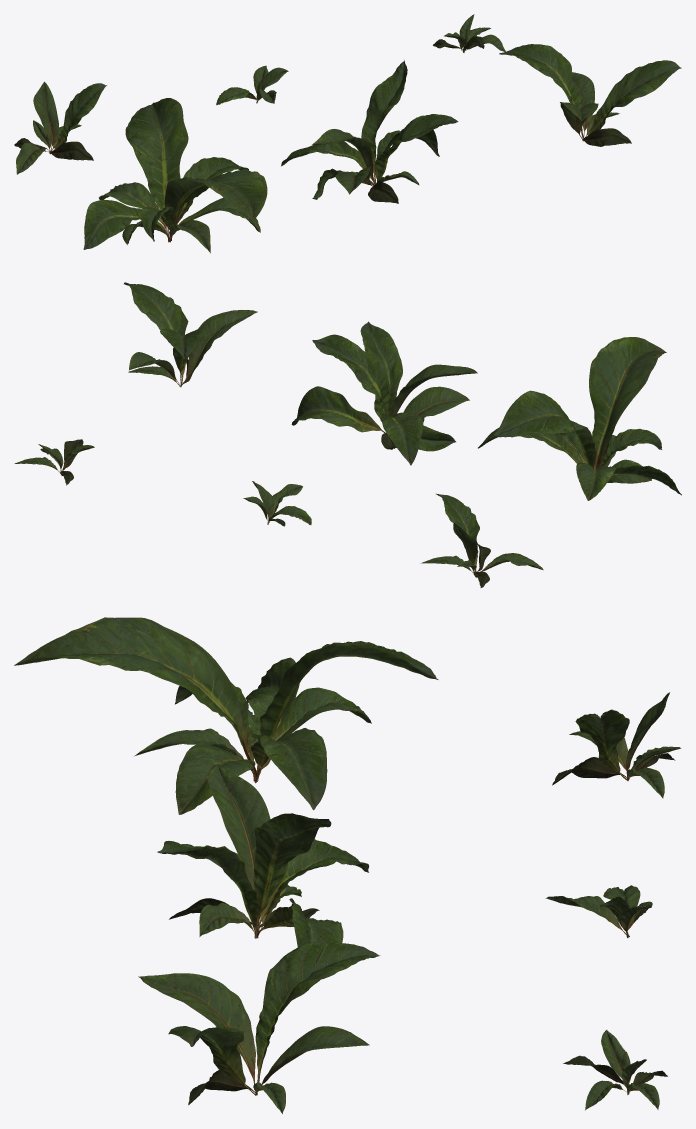
The model's file is anthurium_botany_01_1k.gltf.
3 renders of one model, top to bottom at view 1: azimuth 30°, elevation 25°; view 2: azimuth 150°, elevation 25°; view 3: azimuth 270°, elevation 25°, orthographic. The views are drawn at different scales.
Parts seen in each view (by area): view 1: anthurium_botany_01_a, anthurium_botany_01_b, anthurium_botany_01_c, anthurium_botany_04_d, anthurium_botany_05_e, anthurium_botany_06_f; view 2: anthurium_botany_01_a, anthurium_botany_01_b, anthurium_botany_01_c, anthurium_botany_04_d, anthurium_botany_05_e, anthurium_botany_06_f; view 3: anthurium_botany_01_a, anthurium_botany_01_b, anthurium_botany_01_c, anthurium_botany_04_d, anthurium_botany_06_f, anthurium_botany_05_e.
Boxes of the visible parts, x1,y1,x2,y2 form: anthurium_botany_01_a: (83, 98, 267, 253); anthurium_botany_01_b: (281, 60, 458, 203); anthurium_botany_01_c: (499, 44, 681, 146); anthurium_botany_04_d: (14, 81, 106, 174); anthurium_botany_05_e: (216, 65, 288, 105); anthurium_botany_06_f: (433, 14, 505, 52); anthurium_botany_01_a: (478, 337, 681, 500); anthurium_botany_01_b: (291, 321, 477, 465); anthurium_botany_01_c: (124, 282, 257, 387); anthurium_botany_04_d: (420, 493, 543, 587); anthurium_botany_05_e: (243, 481, 311, 526); anthurium_botany_06_f: (14, 439, 94, 485); anthurium_botany_01_a: (14, 617, 438, 814); anthurium_botany_01_b: (157, 763, 369, 984); anthurium_botany_01_c: (138, 941, 380, 1113); anthurium_botany_04_d: (552, 692, 681, 798); anthurium_botany_06_f: (563, 1030, 667, 1110); anthurium_botany_05_e: (545, 885, 652, 937).
Bounding box in the file's own units: 2.8 × 0.5015 × 1.8.
1 material, 1 textured.
